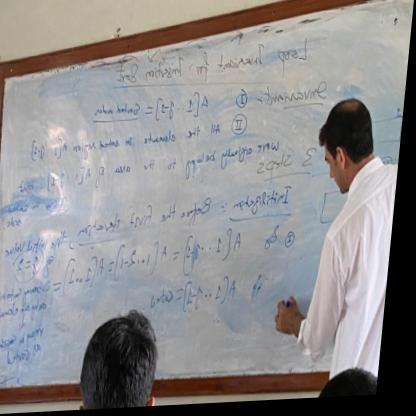Handwritten text: (85, 116, 293, 202), (109, 26, 319, 91), (68, 111, 231, 164), (76, 186, 224, 241), (228, 180, 305, 223), (264, 79, 334, 117)
Lecturer: (281, 91, 407, 403)
